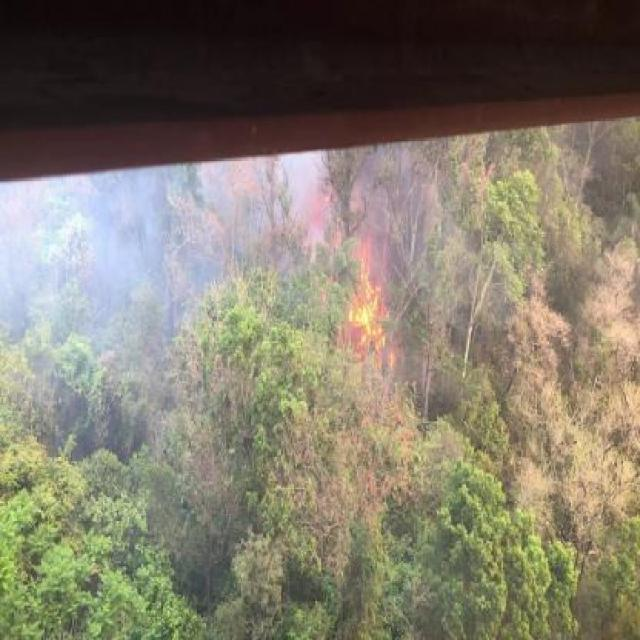Fire: (353, 242, 396, 356)
